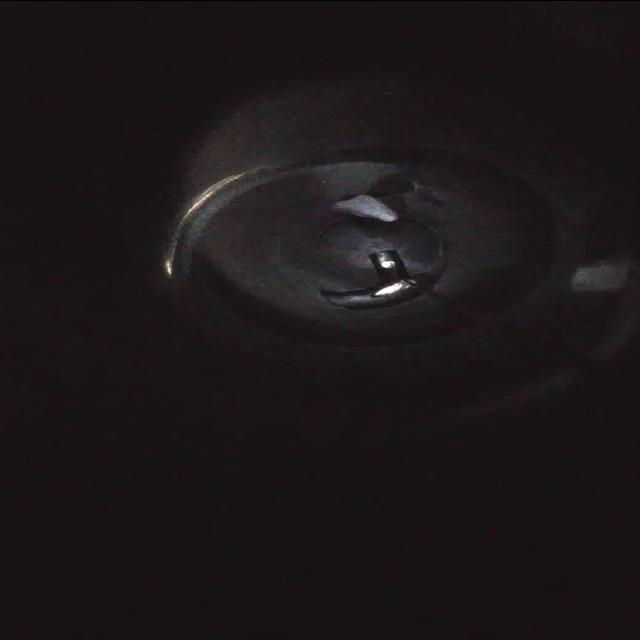impurity: (324, 190, 404, 227)
